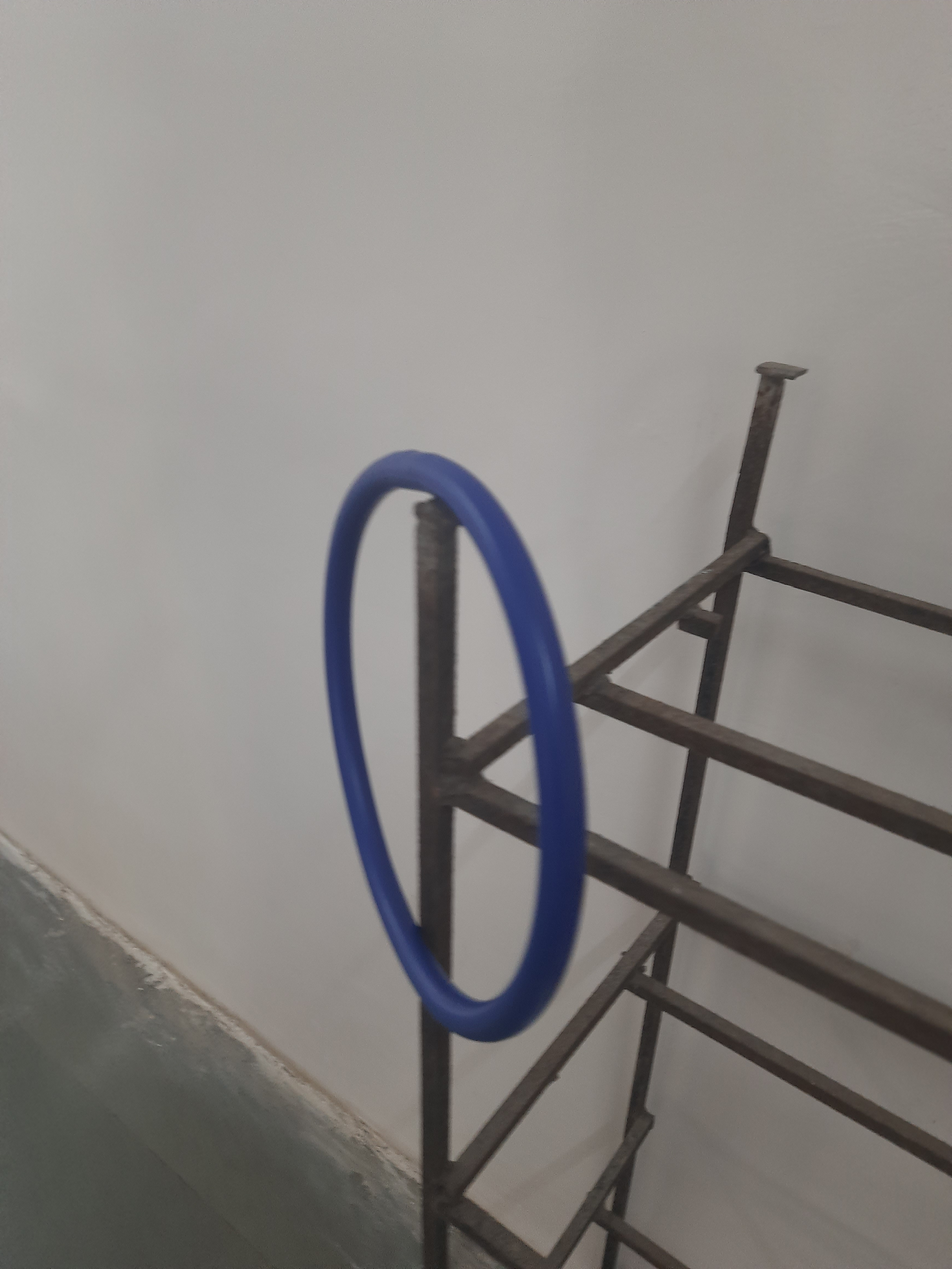Blue ring: (317, 448, 585, 1041)
